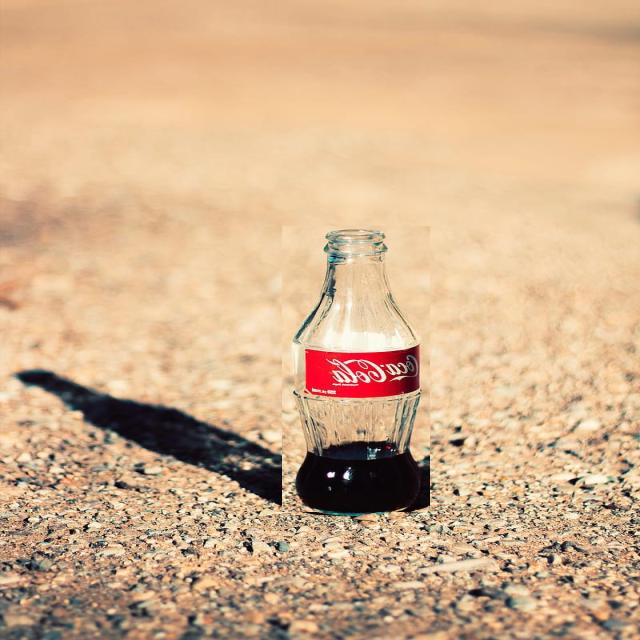coca-cola: (282, 226, 430, 512)
